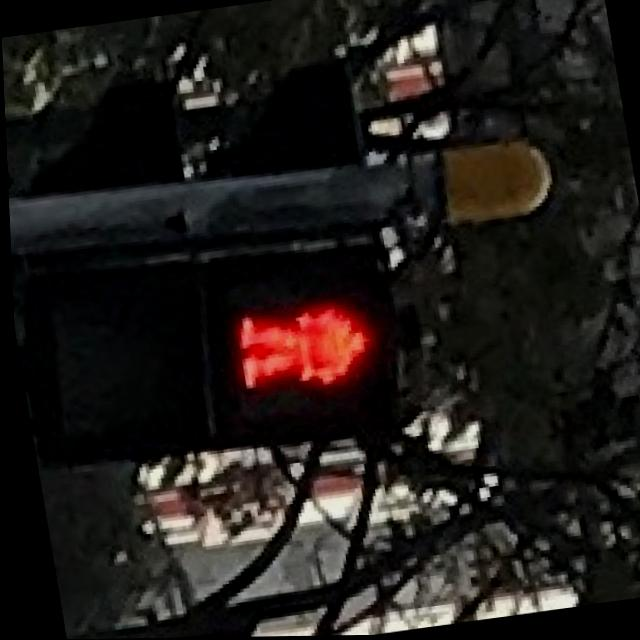red_light: (213, 273, 401, 438)
